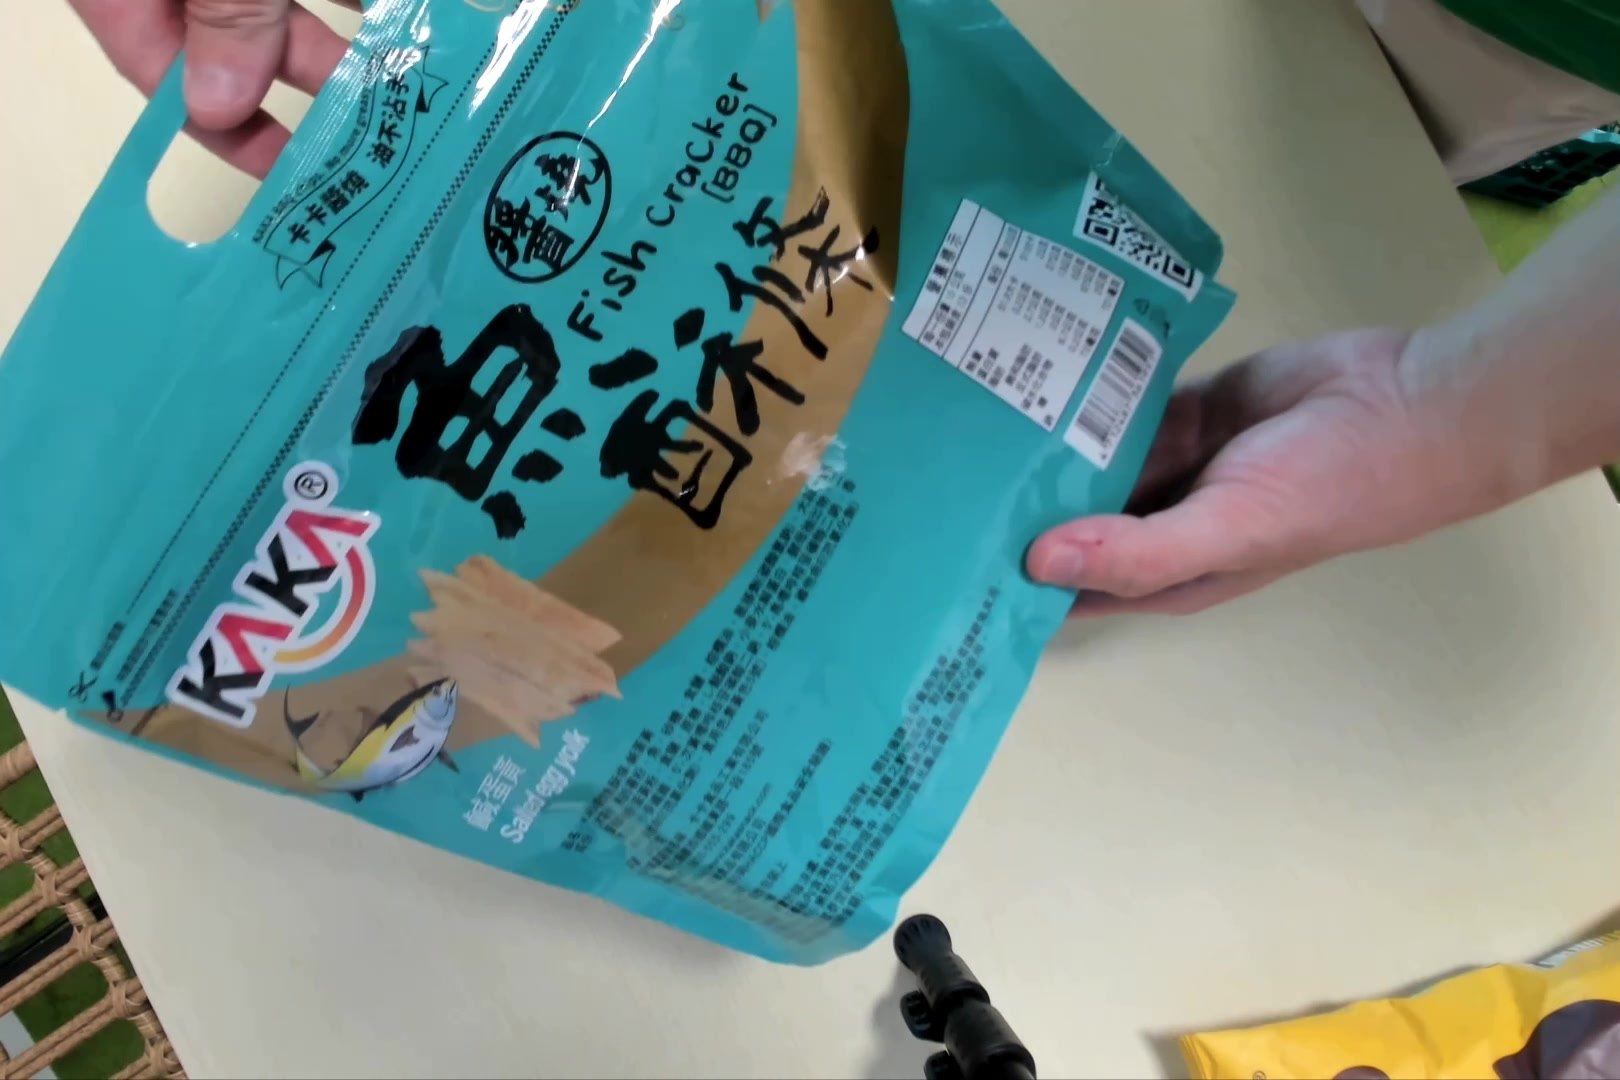PotatoChipsKeropok_100-199g_NonHalal_NonHealthy: (2, 1, 1226, 963)
